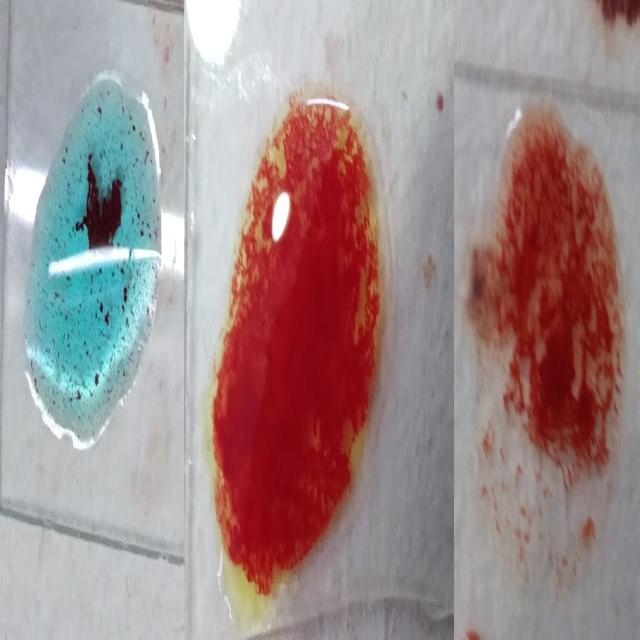A: (22, 65, 166, 453)
B: (211, 89, 388, 632)
D: (493, 95, 619, 566)
